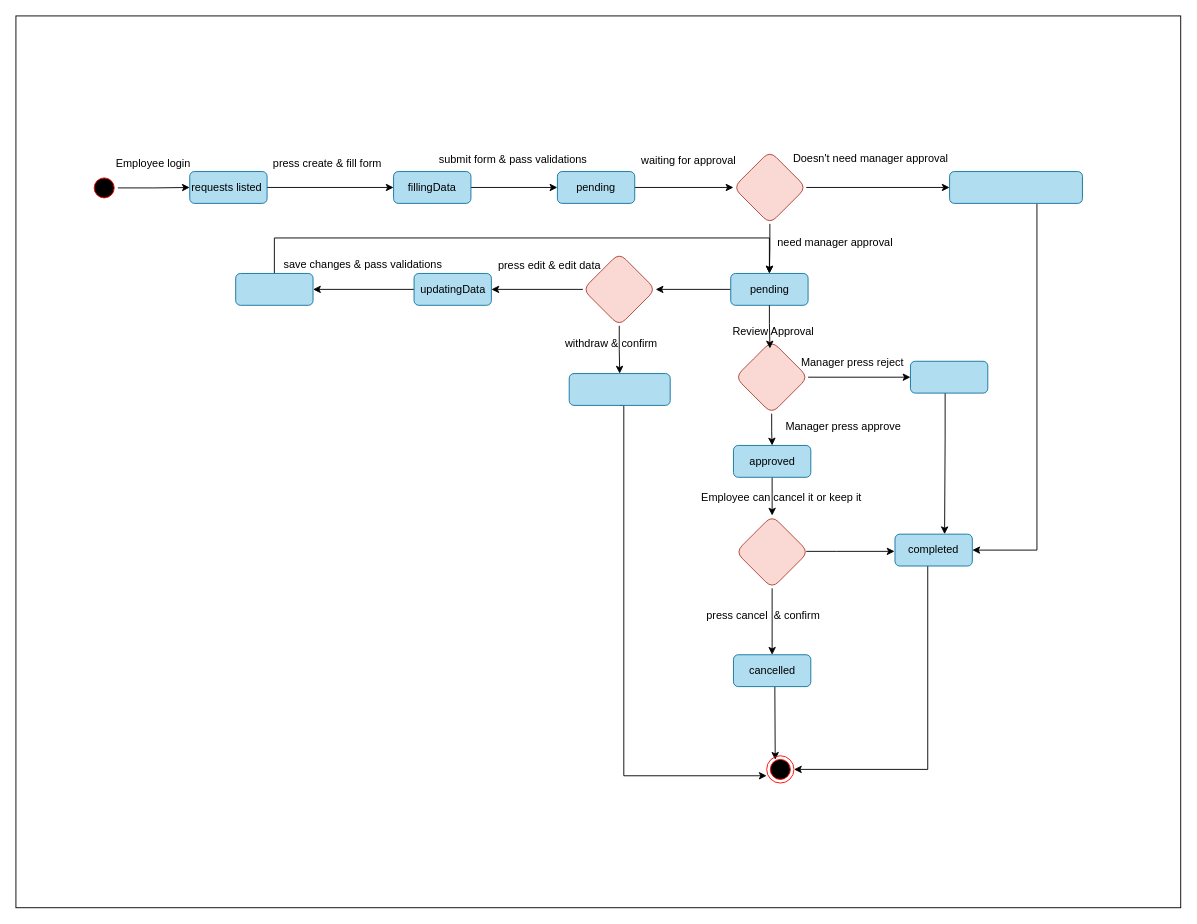
This 1197x924 diagram has some shape labels left out. The box of each missing label's shape, as (x1, y1, x2, y2) in pixels:
approved (automatically): (949, 171, 1082, 203)
rejected: (910, 360, 988, 393)
updated: (235, 273, 313, 305)
withdrawn: (568, 373, 670, 405)
